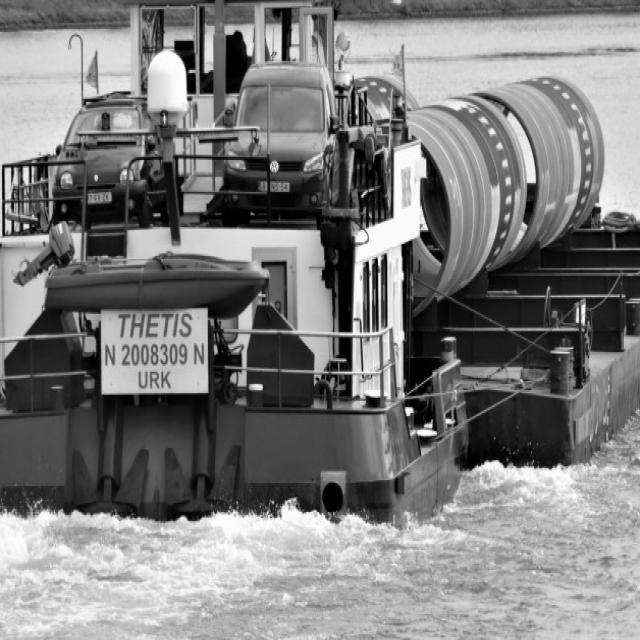tugboat: (1, 1, 475, 559)
